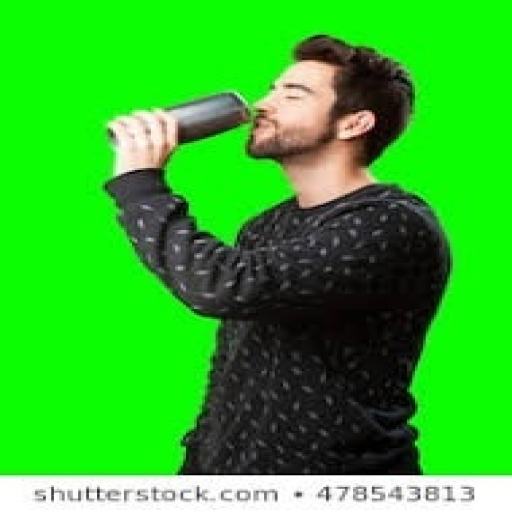drinking: (105, 12, 440, 147)
